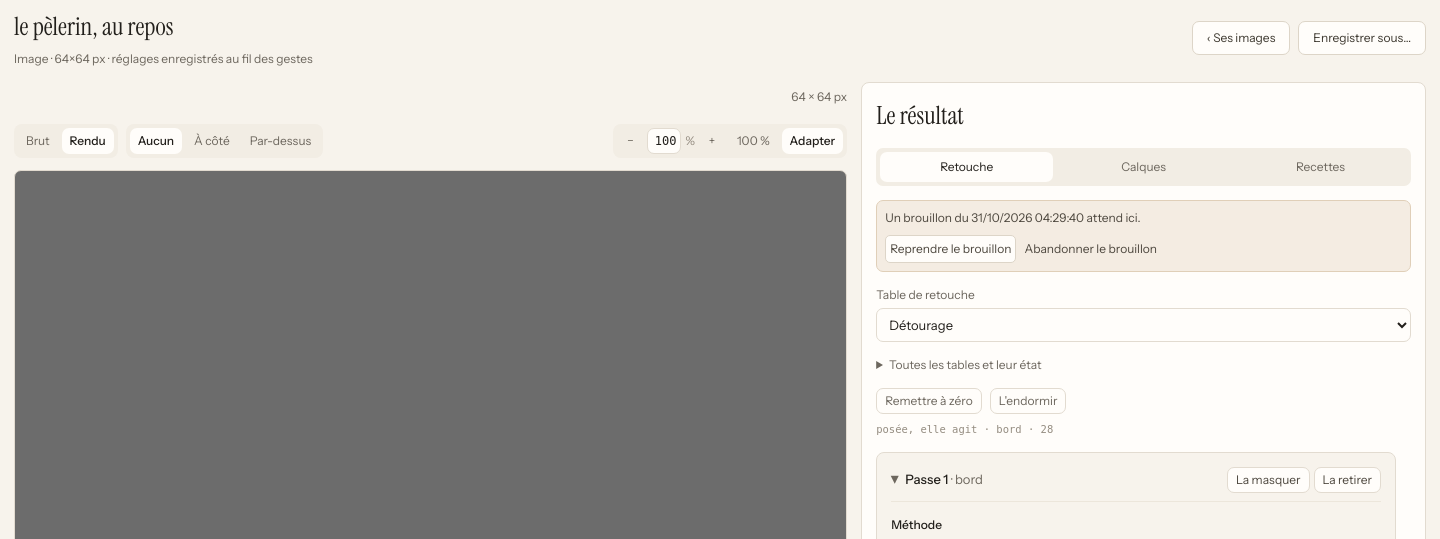
le grossissement libre entre 1 et 250 % (B24, déménagé de Tables.tsx) › *plus* et *moins* avancent d'un arrêt de l'échelle, jamais d'un pas fixe
(page scrolled)
Check: the element showing "− % + 100 % Adapter" is shown, box [614,124,847,158]
Click the button named "Approcher": (712, 140) [699,128,725,154]
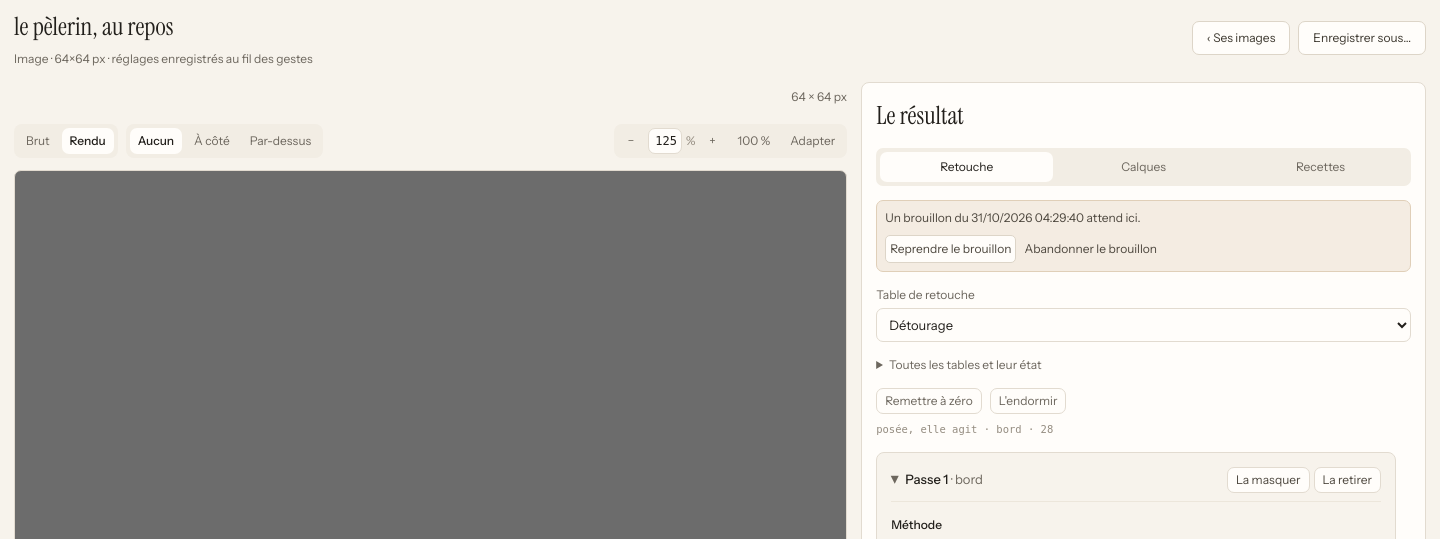
Check: the field named "Pour cent d'agrandissement" holds "125", box [648,128,682,154]
